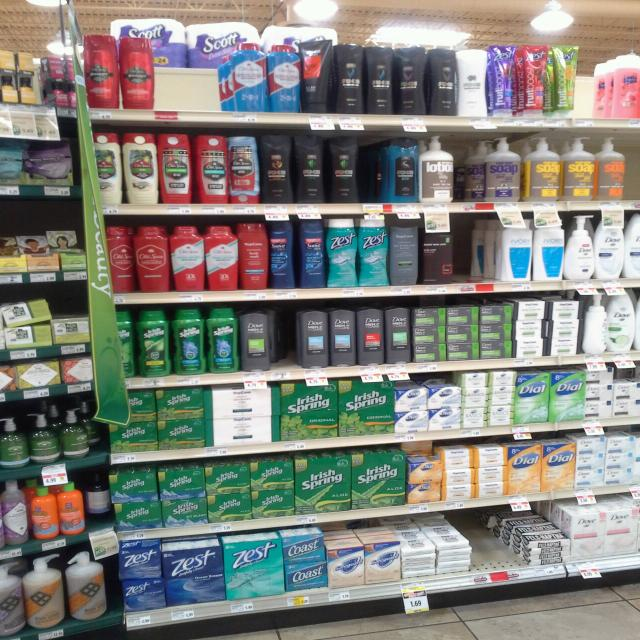empty: (155, 47, 238, 116), (450, 218, 503, 290), (468, 510, 523, 574), (572, 43, 616, 116), (451, 142, 491, 203)
